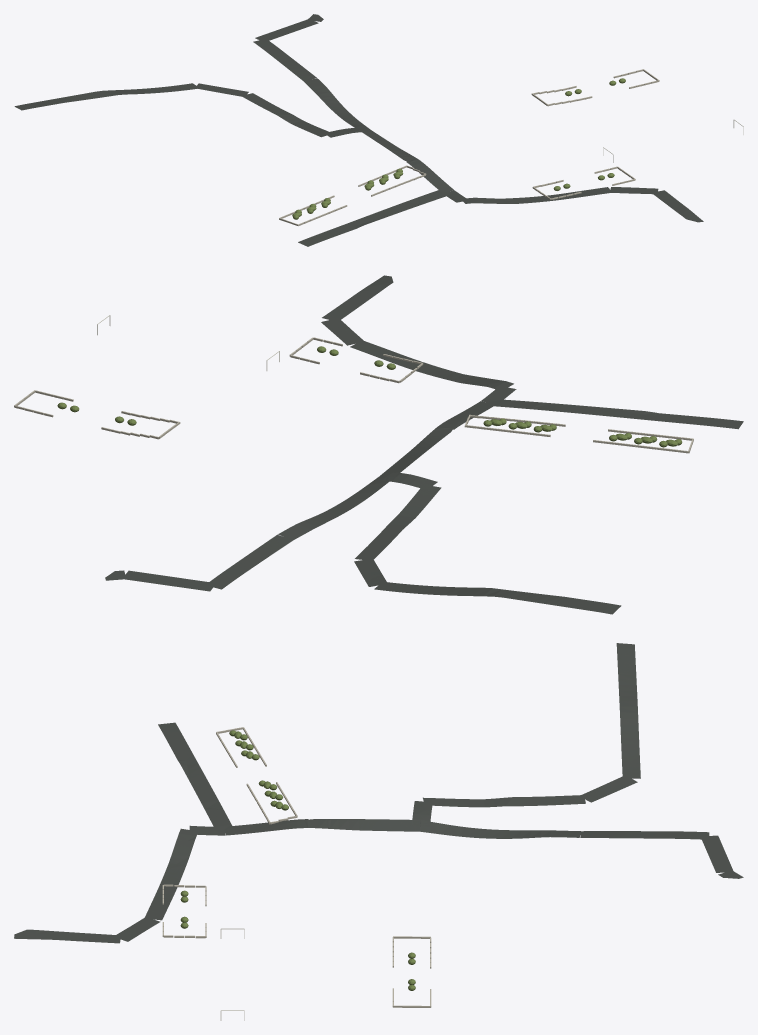
3 renders of one model, top to bottom at view 1: azimuth 30°, elevation 25°; view 2: azimuth 150°, elevation 25°; view 3: azimuth 270°, elevation 25°, orthographic. The views are drawn at different scales.
Visible parts, largest first — view 1: prop_shared-drive, prop_campbell-garden, prop_science-garden, prop_dorm-garden; view 2: prop_shared-drive, prop_campbell-garden, prop_science-garden, prop_dorm-garden; view 3: prop_shared-drive, prop_campbell-garden.
Boxes of the visible parts, <box> form: prop_shared-drive: <box>14,14,703,246</box>; prop_campbell-garden: <box>279,165,426,226</box>; prop_science-garden: <box>531,69,659,106</box>; prop_dorm-garden: <box>532,166,635,199</box>; prop_shared-drive: <box>105,275,743,614</box>; prop_campbell-garden: <box>464,414,693,453</box>; prop_science-garden: <box>14,390,180,439</box>; prop_dorm-garden: <box>289,337,423,383</box>; prop_shared-drive: <box>14,643,743,943</box>; prop_campbell-garden: <box>216,727,297,824</box>.
Size of the model in its own units: 145 by 10.18 by 136.
4 materials, 1 textured.
